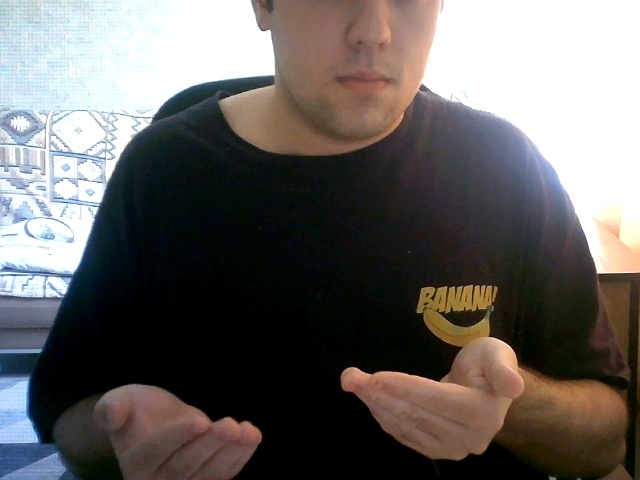hello: (75, 308, 538, 480)
